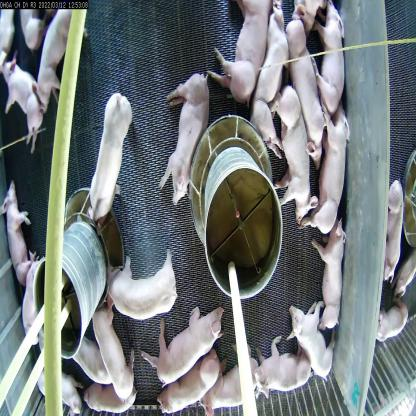Pig: (84, 90, 148, 231), (277, 11, 335, 165), (134, 300, 228, 382), (95, 244, 186, 327), (26, 7, 87, 115), (273, 85, 321, 220), (205, 0, 265, 103), (164, 63, 208, 201), (0, 44, 52, 156), (308, 100, 344, 240), (146, 340, 214, 412), (250, 13, 286, 144), (91, 298, 137, 398), (311, 213, 349, 333), (0, 157, 33, 289), (252, 340, 315, 406), (317, 0, 349, 122), (288, 300, 337, 377), (34, 350, 86, 415), (202, 362, 261, 415), (13, 246, 44, 346), (377, 168, 403, 281), (368, 301, 408, 357)
